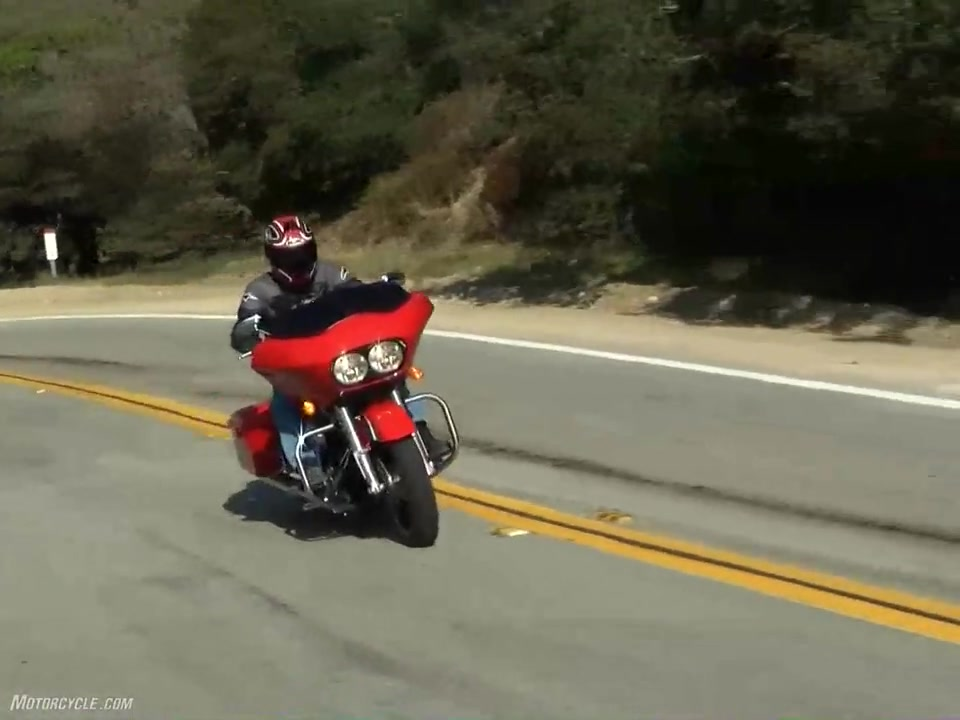motorbike: (227, 279, 459, 551)
